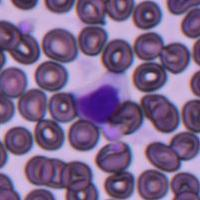L: (76, 73, 129, 124)
